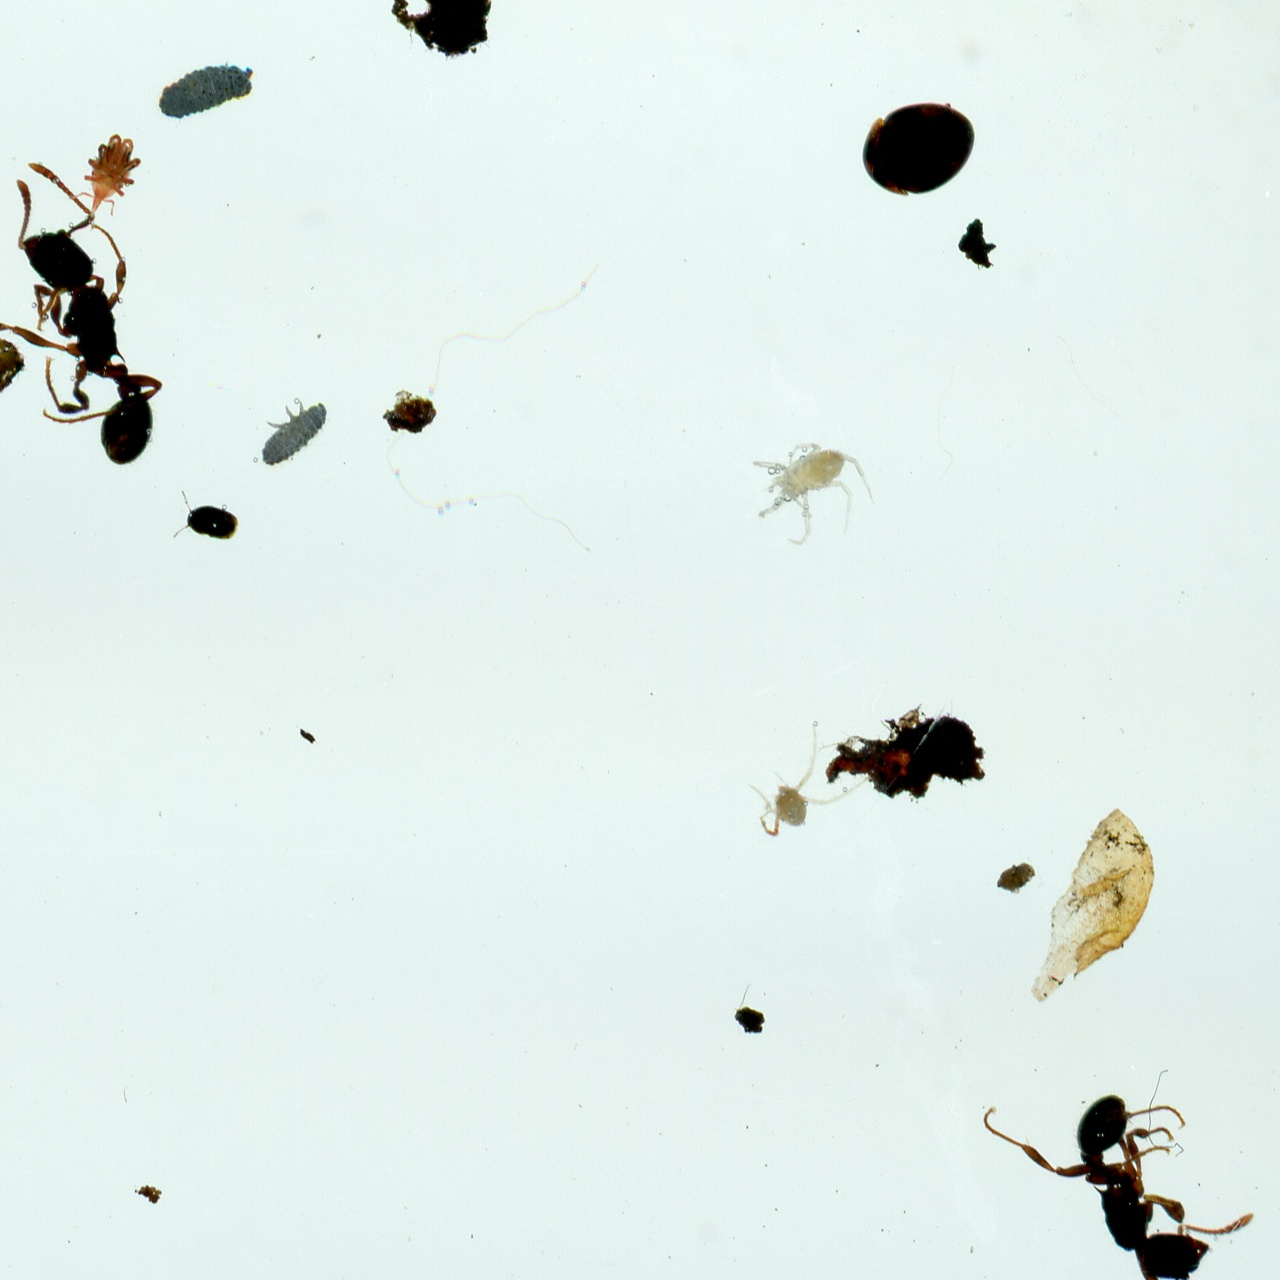arthropod: (973, 1086, 1273, 1280), (0, 161, 164, 470), (746, 423, 881, 551), (742, 717, 876, 839), (852, 96, 986, 201), (240, 381, 342, 477), (70, 122, 150, 224), (155, 59, 260, 120), (172, 490, 239, 540)
